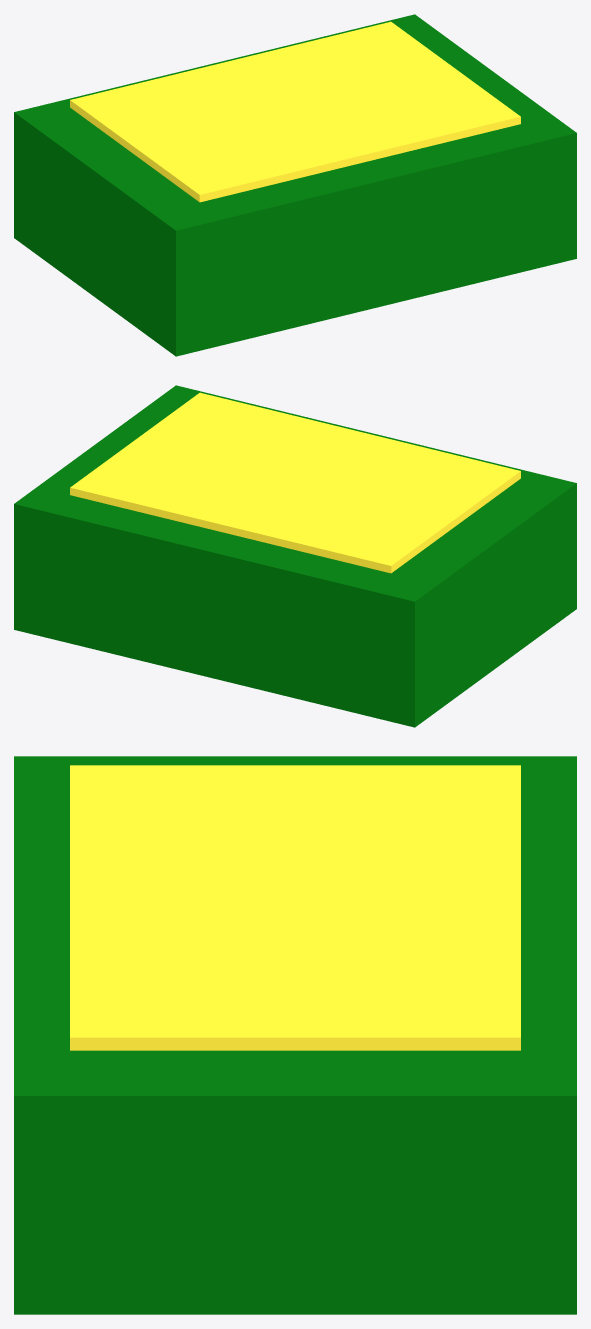
Rendered from ammo.glb.
3 renders of one model, top to bottom at view 1: azimuth 30°, elevation 25°; view 2: azimuth 150°, elevation 25°; view 3: azimuth 270°, elevation 25°, orthographic. The views are drawn at different scales.
Visible parts, largest first — view 1: Cube, Cube.001; view 2: Cube, Cube.001; view 3: Cube, Cube.001.
Boxes of the visible parts, x1,y1,x2,y2 form: Cube: [14, 14, 576, 356]; Cube.001: [70, 21, 520, 202]; Cube: [14, 385, 576, 727]; Cube.001: [70, 392, 520, 573]; Cube: [14, 756, 576, 1314]; Cube.001: [70, 765, 520, 1050].
Size of the model in its own units: 2 by 0.6678 by 1.4.
